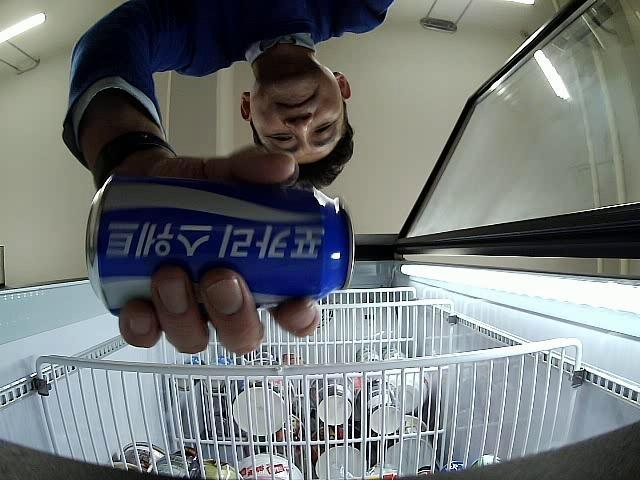13_pocariSweat: (89, 170, 354, 316)
